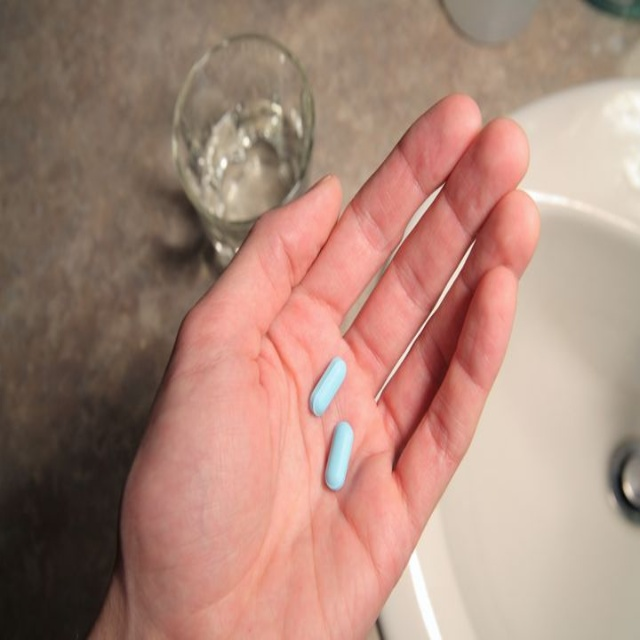pill: (347, 267, 390, 312), (365, 315, 397, 369)
